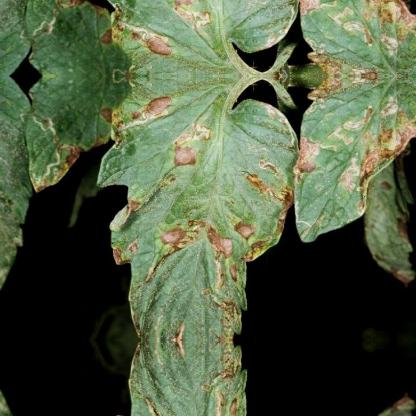Early-Blight: (99, 158, 311, 338), (305, 74, 415, 278), (99, 341, 311, 416), (305, 0, 415, 75), (19, 91, 182, 133), (19, 17, 182, 59), (24, 145, 93, 199)
